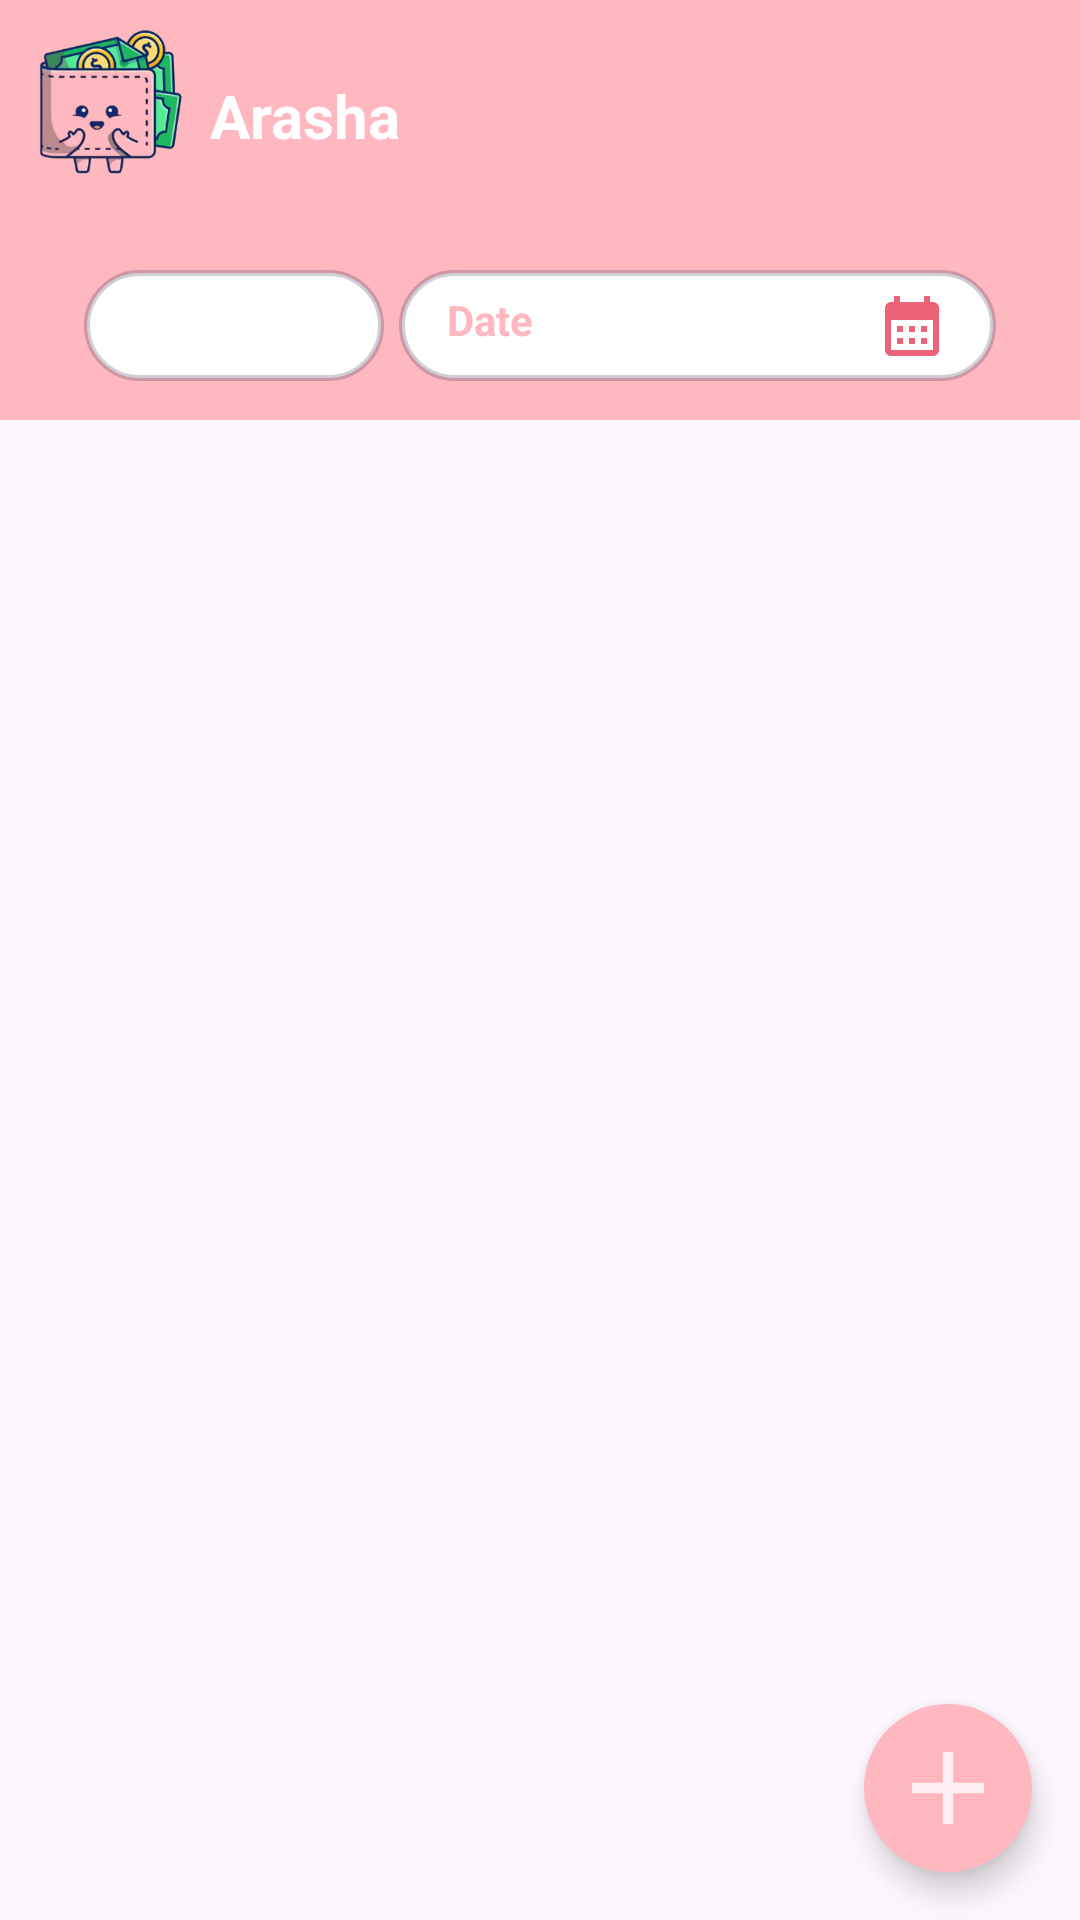

Screen size 1080 x 1920. Icon name, then its center in pixels as (x=x, y=y):
Add new item: (x=948, y=1788)
